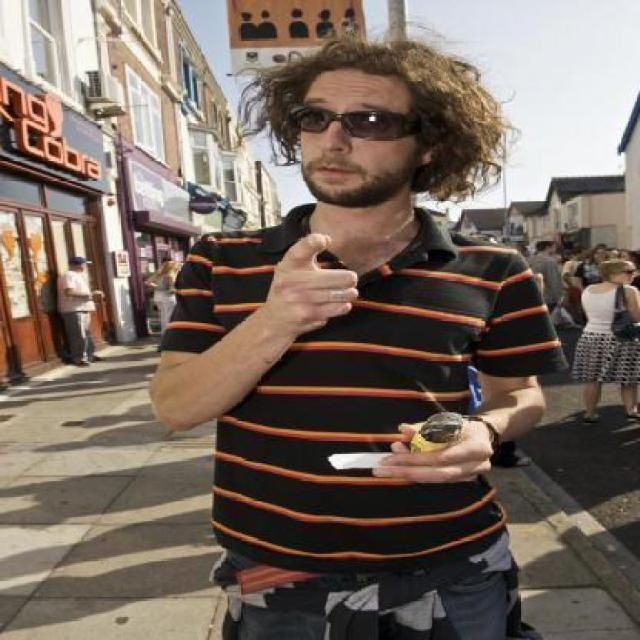face_nomask: (282, 97, 418, 186)
glasses: (117, 14, 597, 640), (278, 96, 420, 149)
hand_noglove: (350, 394, 507, 500), (252, 224, 380, 344)
head_nohelmet: (265, 27, 501, 85)
